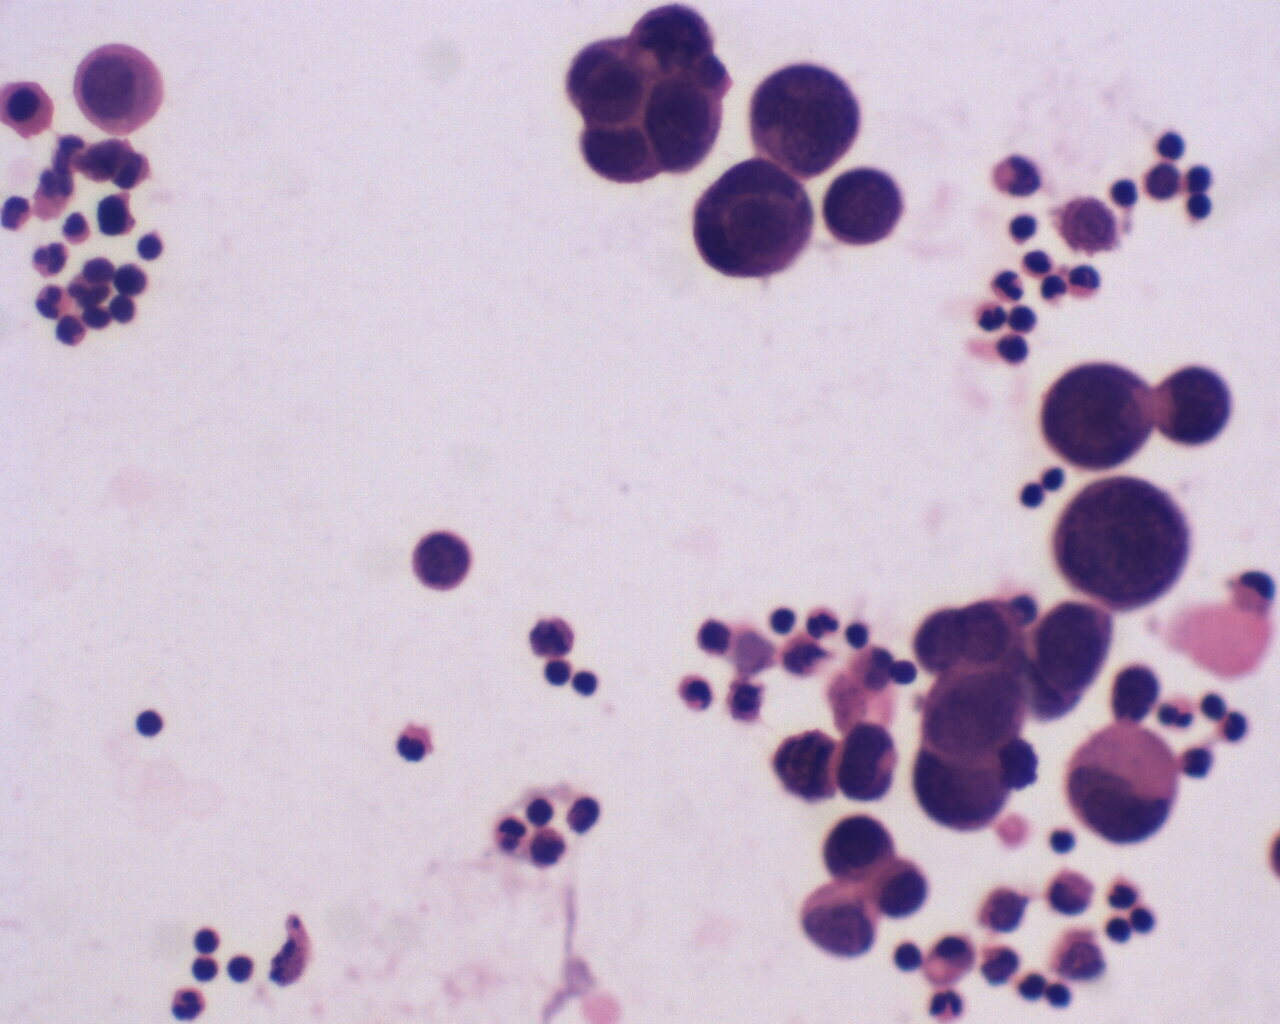ab: (1052, 465, 1195, 614), (694, 157, 819, 285), (1066, 717, 1180, 848), (748, 59, 864, 179), (1039, 354, 1149, 475), (920, 655, 1025, 763), (905, 748, 1018, 837), (1037, 599, 1118, 706), (1151, 360, 1238, 447), (626, 1, 715, 85), (821, 167, 906, 250), (831, 720, 903, 804), (574, 119, 656, 188), (825, 810, 897, 885), (409, 525, 476, 594), (1058, 195, 1122, 256)
lymph: (1153, 125, 1190, 165), (127, 706, 167, 740), (766, 604, 805, 636), (1127, 904, 1162, 938), (571, 667, 598, 707), (194, 923, 222, 955)
meso: (72, 40, 168, 137), (1, 79, 61, 144)
neutro: (164, 984, 215, 1024), (31, 235, 74, 280), (924, 983, 971, 1024), (31, 280, 73, 325), (1065, 260, 1107, 304), (990, 264, 1027, 305), (805, 609, 842, 643)
